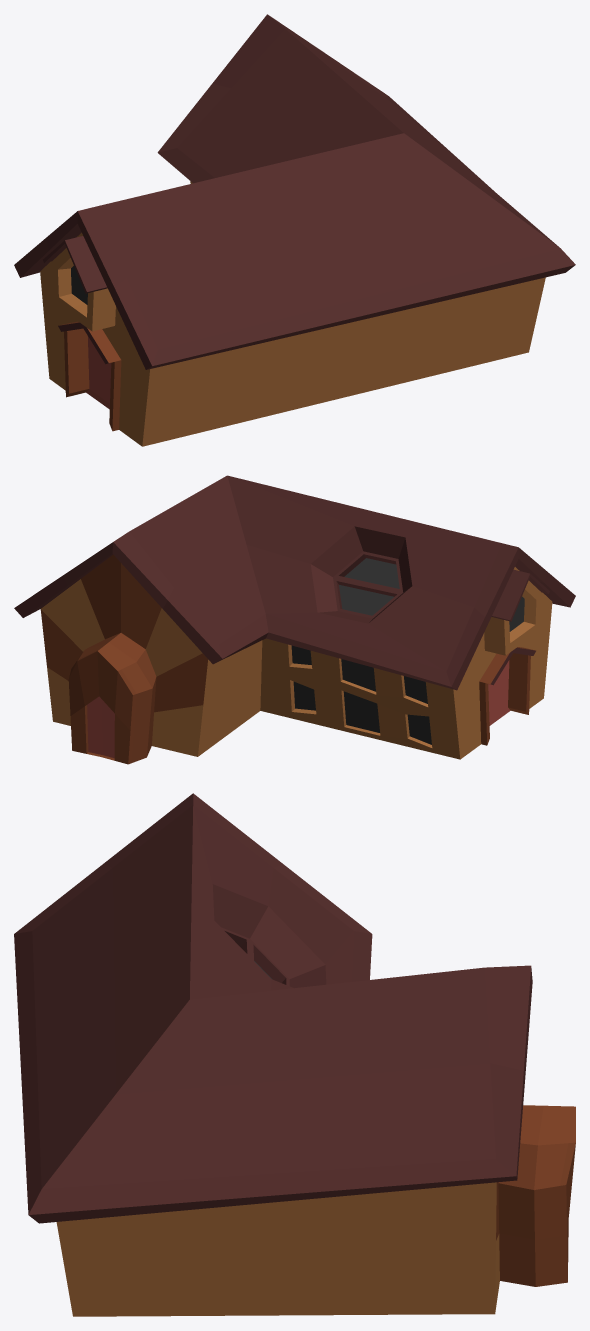
File: Turned House.fbx
3 views of the same model, one above another, from view 1: azimuth 30°, elevation 25°; view 2: azimuth 150°, elevation 25°; view 3: azimuth 270°, elevation 25° (orthographic). The views are drawn at different scales.
Visible parts, largest first — view 1: Plane.009; view 2: Plane.009; view 3: Plane.009.
Part boxes in pixels (x1,y1,x2,y2): Plane.009: (14, 14, 575, 446); Plane.009: (14, 475, 575, 764); Plane.009: (14, 793, 575, 1316).
Bounding box in the file's own units: 2454 × 1200 × 2054.
